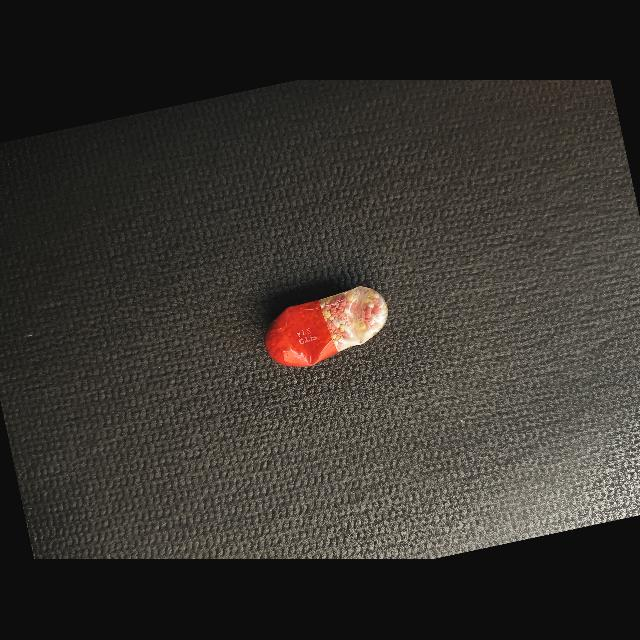Defective Capsule: (265, 287, 388, 367)
